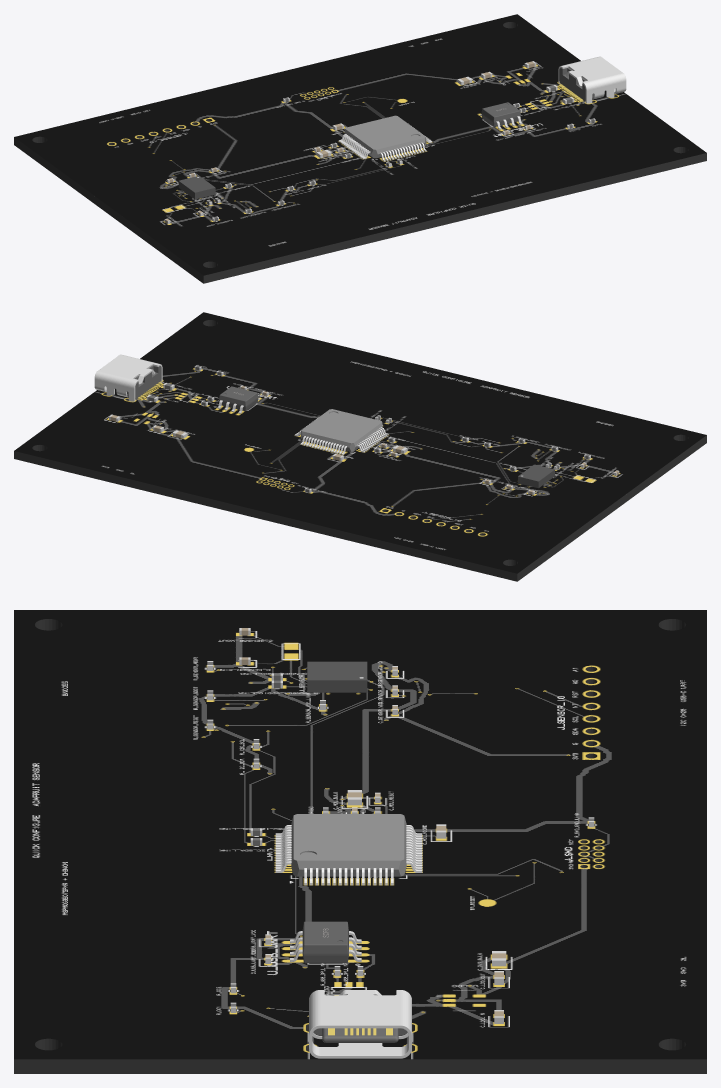
The picture shows the model from 3 angles, top to bottom: view 1: azimuth 30°, elevation 25°; view 2: azimuth 150°, elevation 25°; view 3: azimuth 270°, elevation 25°; orthographic projection. The views are drawn at different scales.
Visible parts, largest first — view 1: Box0, U_MAIN, J_USB, U_USB_UART, U_SENSOR; view 2: Box0, U_MAIN, J_USB, U_USB_UART, U_SENSOR; view 3: Box0, U_MAIN, J_USB, U_USB_UART, U_SENSOR.
Part boxes in pixels (left/top/right/bottom): Box0: left=14, top=14, right=706, bottom=283; U_MAIN: left=338, top=115, right=432, bottom=161; J_USB: left=558, top=56, right=626, bottom=103; U_USB_UART: left=480, top=102, right=522, bottom=129; U_SENSOR: left=178, top=175, right=215, bottom=199; Box0: left=14, top=312, right=706, bottom=581; U_MAIN: left=294, top=409, right=388, bottom=454; J_USB: left=94, top=354, right=162, bottom=401; U_USB_UART: left=217, top=386, right=259, bottom=413; U_SENSOR: left=518, top=464, right=554, bottom=488; Box0: left=14, top=610, right=706, bottom=1073; U_MAIN: left=275, top=814, right=422, bottom=885; J_USB: left=309, top=990, right=411, bottom=1058; U_USB_UART: left=290, top=921, right=361, bottom=963; U_SENSOR: left=307, top=661, right=367, bottom=692.
Bounding box in the file's own units: 92.04 × 4.65 × 60.
19 materials, 2 textured.
